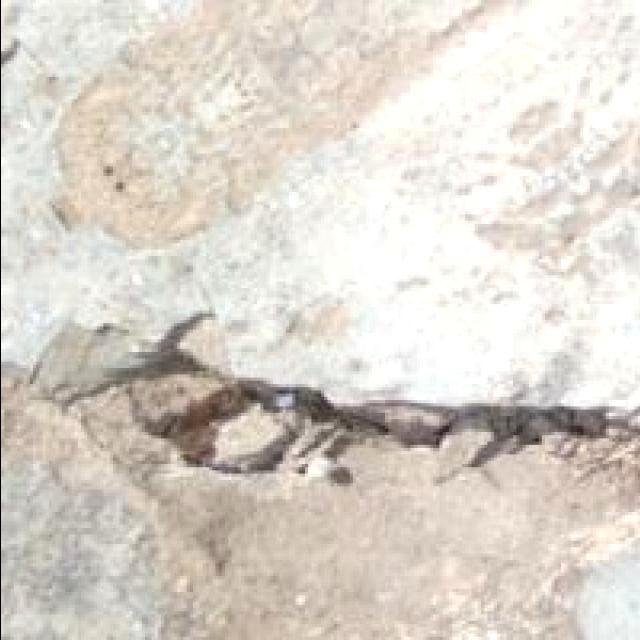SurfaceCrack: (66, 274, 610, 524)
